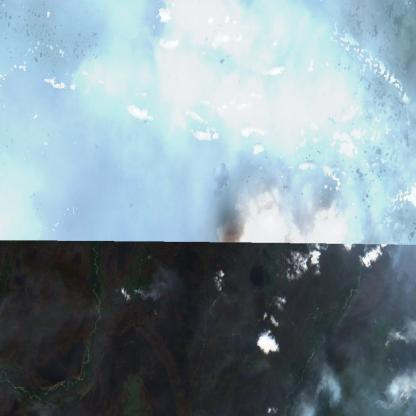fire: (142, 0, 246, 177), (212, 192, 340, 253), (371, 322, 416, 416), (290, 382, 328, 416)
